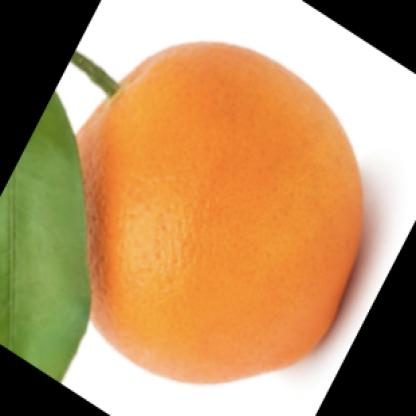fresh: (57, 43, 365, 385)
